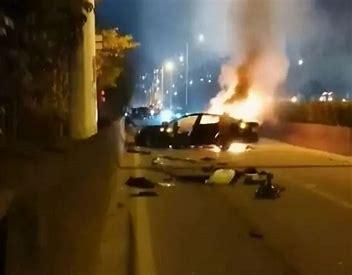smoke: (201, 91, 266, 153)
